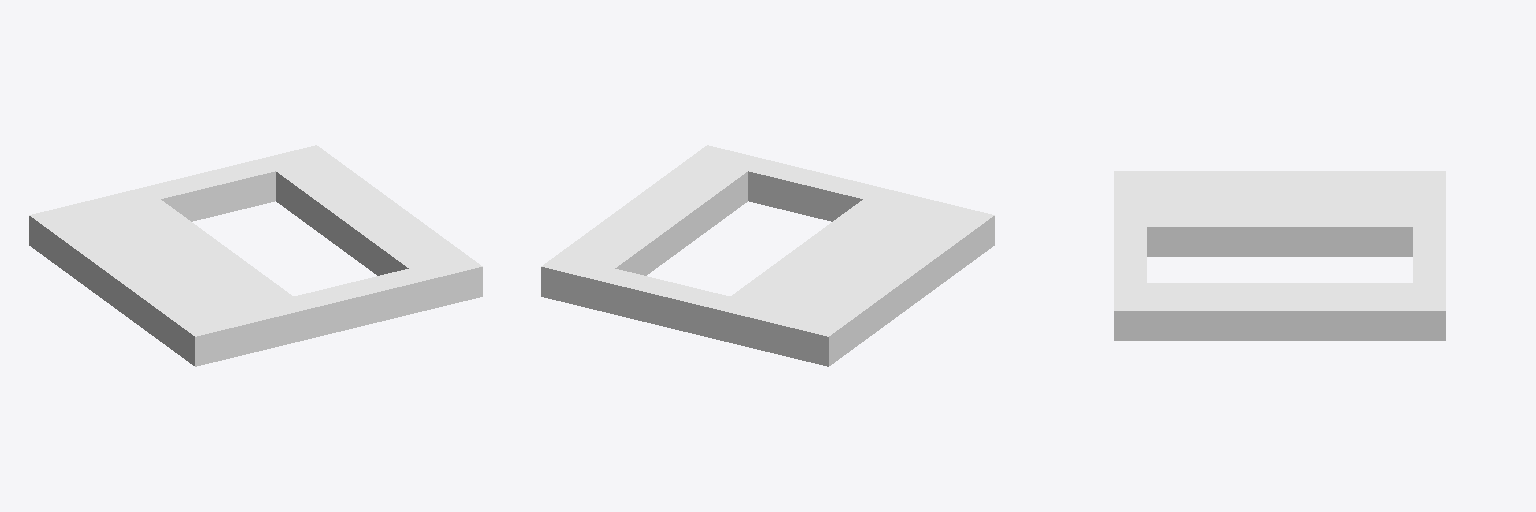
File: Middlewindowmonorail.obj
3 renders of one model, left to right at view 1: azimuth 30°, elevation 25°; view 2: azimuth 150°, elevation 25°; view 3: azimuth 270°, elevation 25°, orthographic.
Parts seen in each view (by area): view 1: object 1; view 2: object 1; view 3: object 1.
Boxes of the visible parts, <box> form: object 1: <box>29,145,482,366</box>; object 1: <box>541,145,994,366</box>; object 1: <box>1114,171,1445,340</box>.
Size of the model in its own units: 2 by 0.2 by 2.